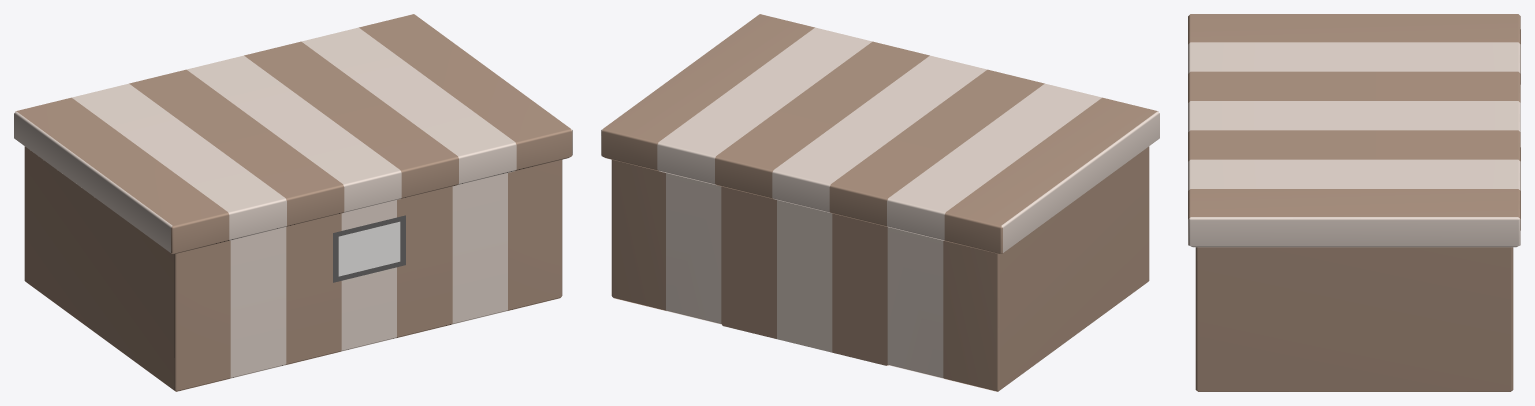
File: Storage_box_4.glb
The picture shows the model from 3 angles, left to right: view 1: azimuth 30°, elevation 25°; view 2: azimuth 150°, elevation 25°; view 3: azimuth 270°, elevation 25°; orthographic projection. The views are drawn at different scales.
Parts seen in each view (by area): view 1: Storage_box_4; view 2: Storage_box_4; view 3: Storage_box_4.
Part boxes in pixels (bbox=[...]): Storage_box_4: bbox=[14, 14, 572, 391]; Storage_box_4: bbox=[601, 14, 1159, 391]; Storage_box_4: bbox=[1188, 14, 1520, 391].
Size of the model in its own units: 0.6631 by 0.2687 by 0.4543.
Materials: 1 (1 with a texture image).
